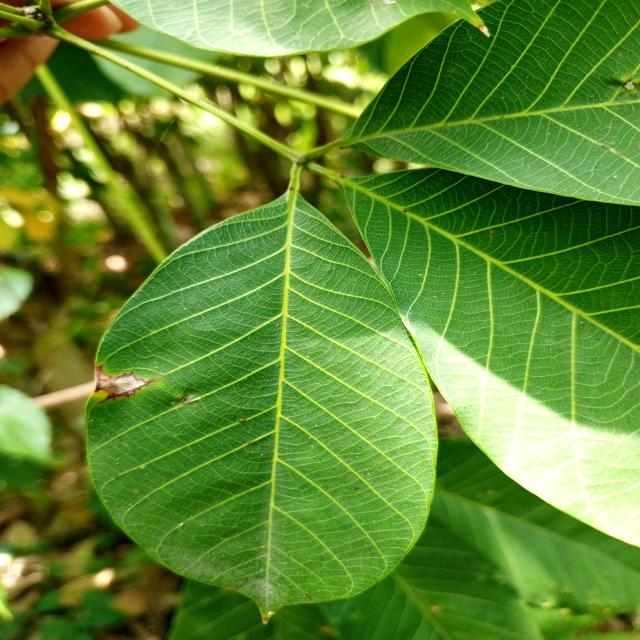Corynespora: (94, 365, 162, 405)
Leaf-Blight: (100, 376, 144, 395)
